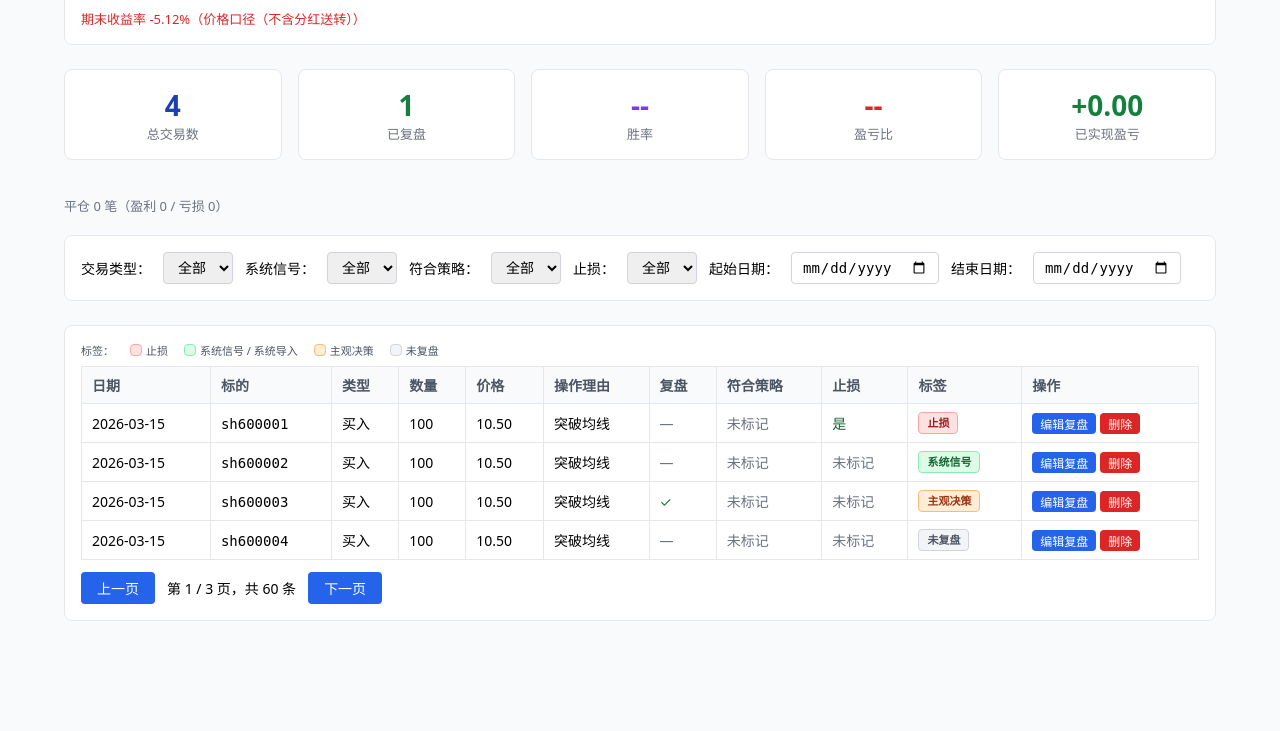
Test case: T69 ③ · 分页可推进（修 setPage 缺失 bug） › 点「上一页」→ 页码从 2 退回 1
(page scrolled)
Click the button "下一页". click: (345, 588)
box: [308, 572, 382, 604]
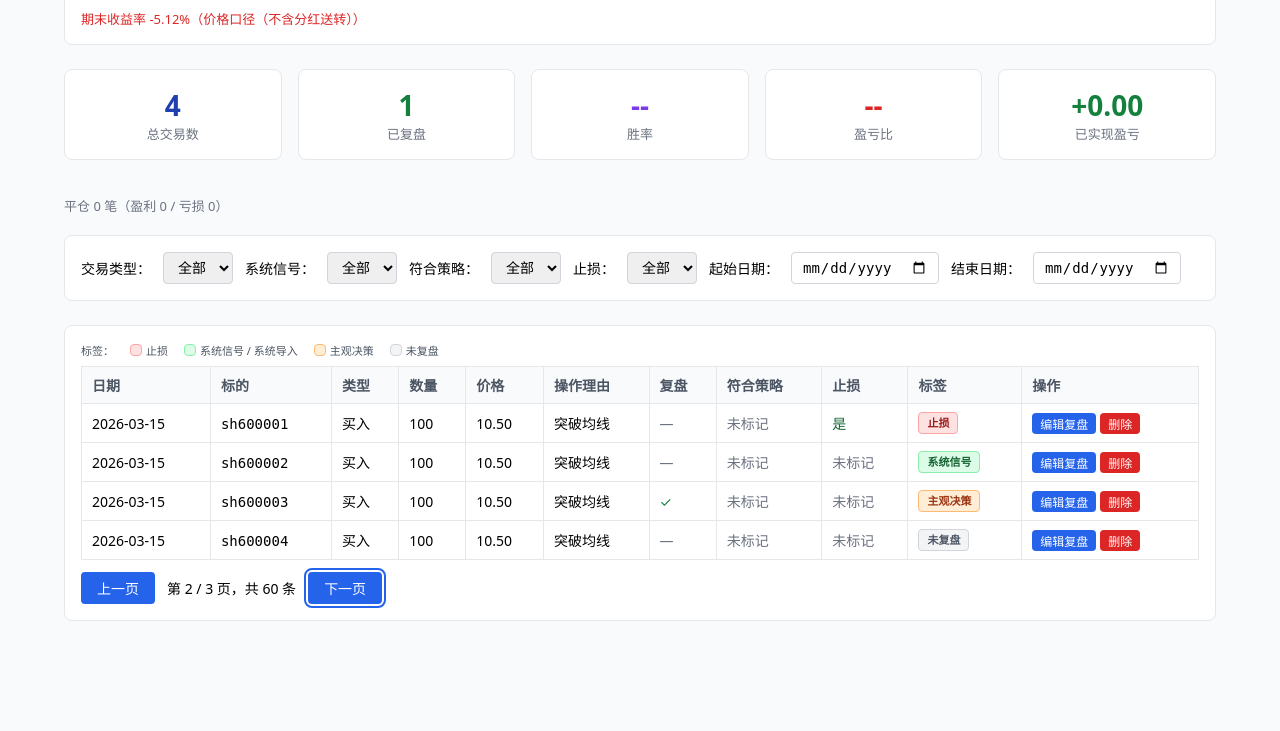
Result: the text "第 2 / 3 页，共 60 条" is shown at [167, 578, 296, 598]
Click the button "上一页". click: (118, 588)
box: [81, 572, 155, 604]
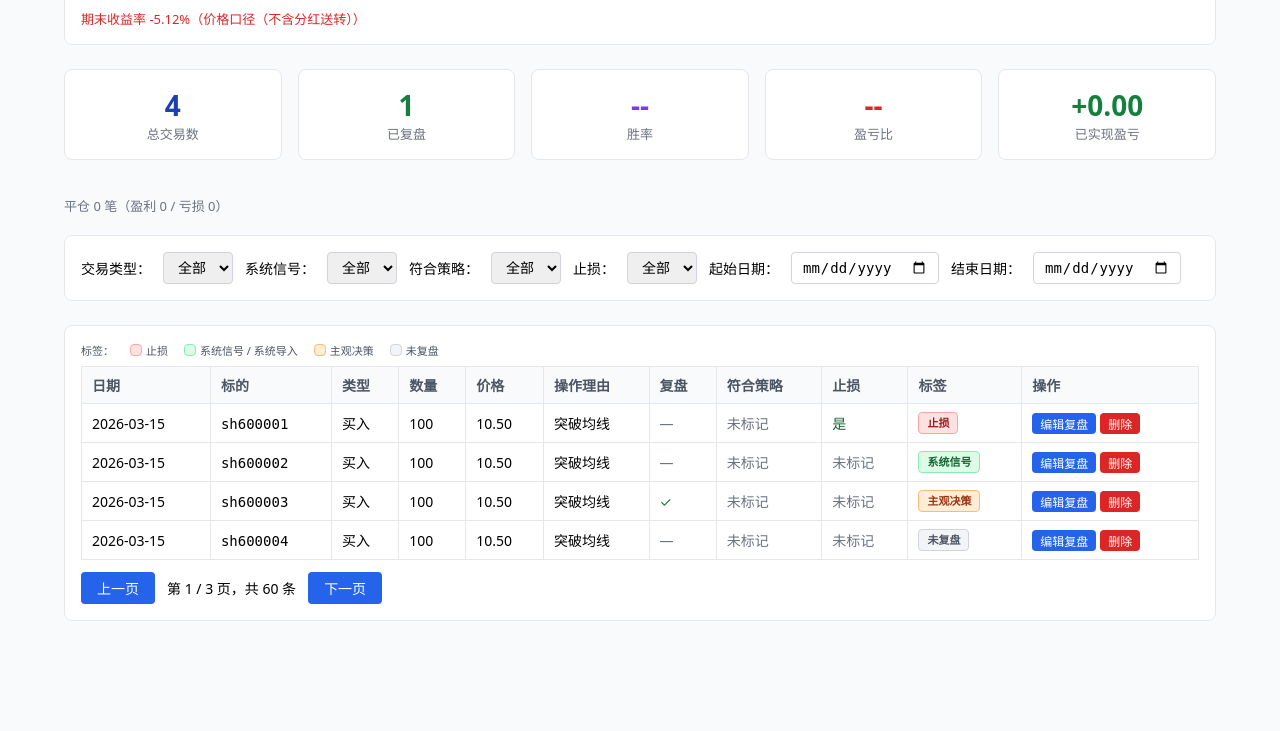
Result: the text "第 1 / 3 页，共 60 条" is shown at [167, 578, 296, 598]
